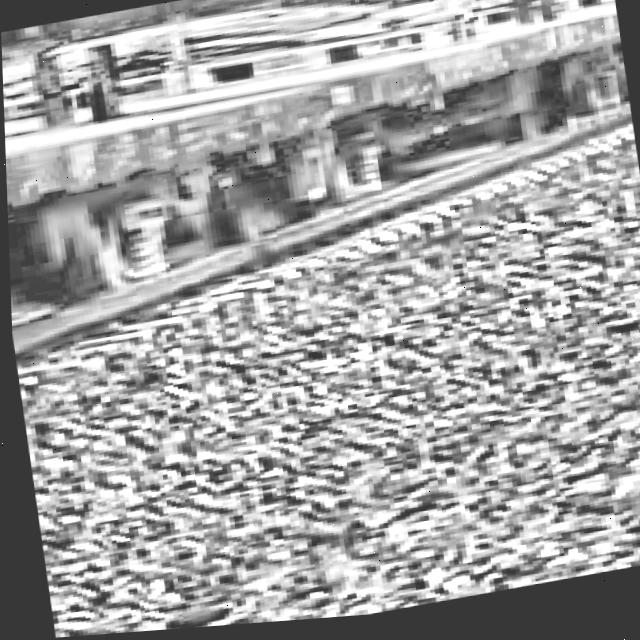Gerbong: (1, 8, 639, 290), (3, 74, 366, 384), (556, 0, 629, 133)
